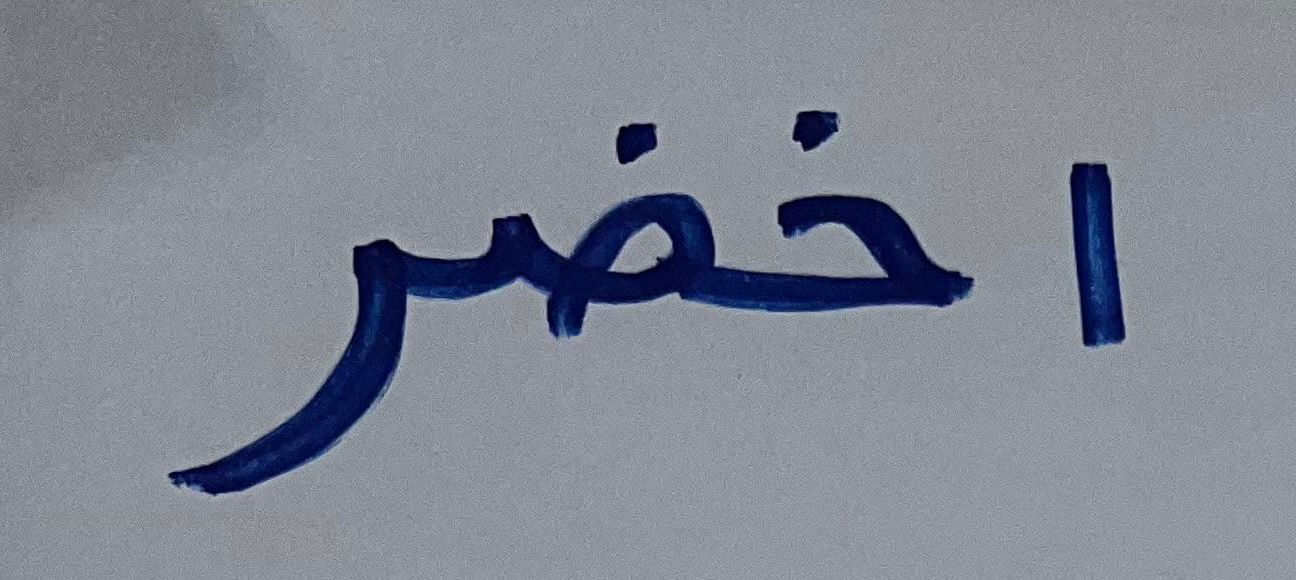dad: (449, 70, 731, 382)
khah: (741, 81, 1008, 381)
lam: (1025, 109, 1189, 384)
reh: (122, 138, 439, 527)
